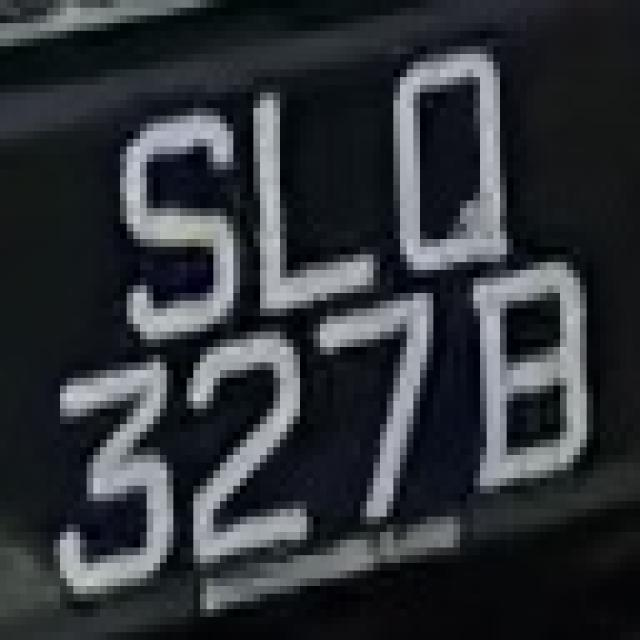2: (180, 339, 313, 563)
3: (40, 347, 173, 601)
7: (300, 278, 440, 532)
B: (466, 247, 606, 501)
L: (220, 62, 380, 324)
Q: (360, 39, 513, 278)
S: (100, 85, 240, 355)
